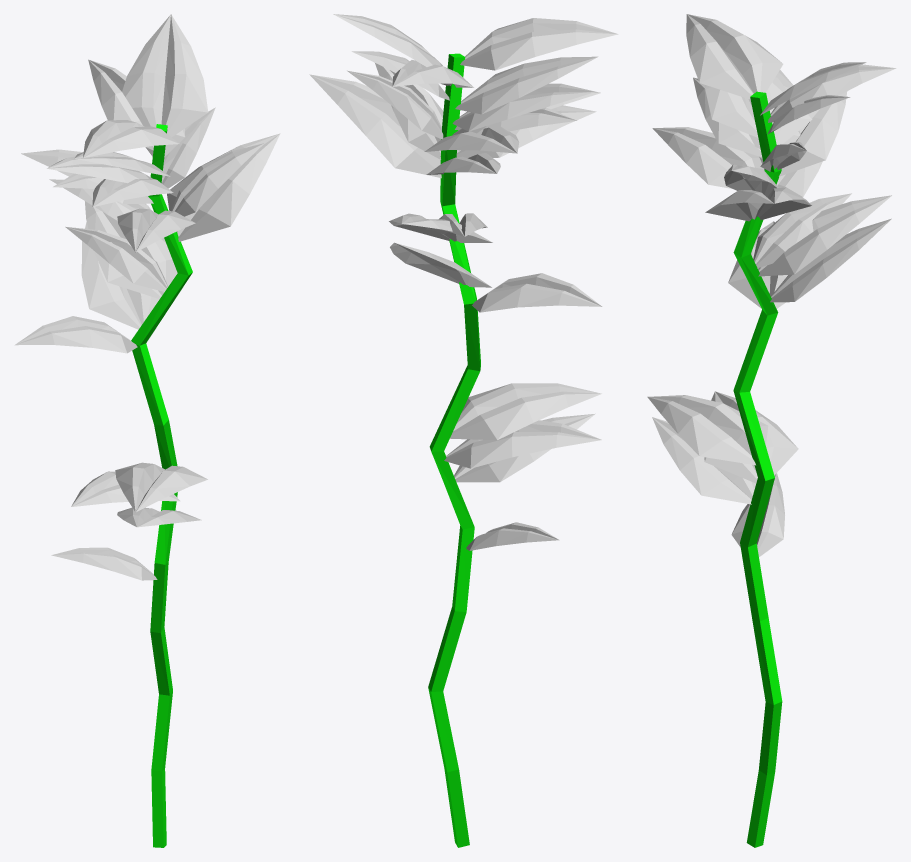
The model's file is grasBig_7.fbx.
The picture shows the model from 3 angles, left to right: view 1: azimuth 30°, elevation 25°; view 2: azimuth 150°, elevation 25°; view 3: azimuth 270°, elevation 25°; orthographic projection. The views are drawn at different scales.
Parts seen in each view (by area): view 1: quickmaterial1; view 2: quickmaterial1; view 3: quickmaterial1.
Boxes of the visible parts, left/top/right/bottom form: quickmaterial1: left=14, top=14, right=280, bottom=847; quickmaterial1: left=309, top=14, right=618, bottom=847; quickmaterial1: left=647, top=14, right=896, bottom=847.
Size of the model in its own units: 0.3893 by 1.09 by 0.3013.
